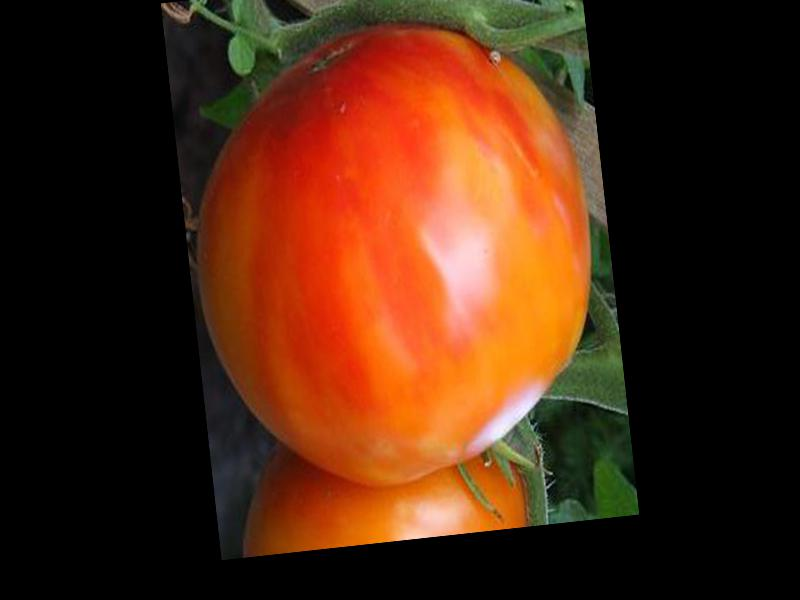Tomato: (174, 7, 613, 497)
